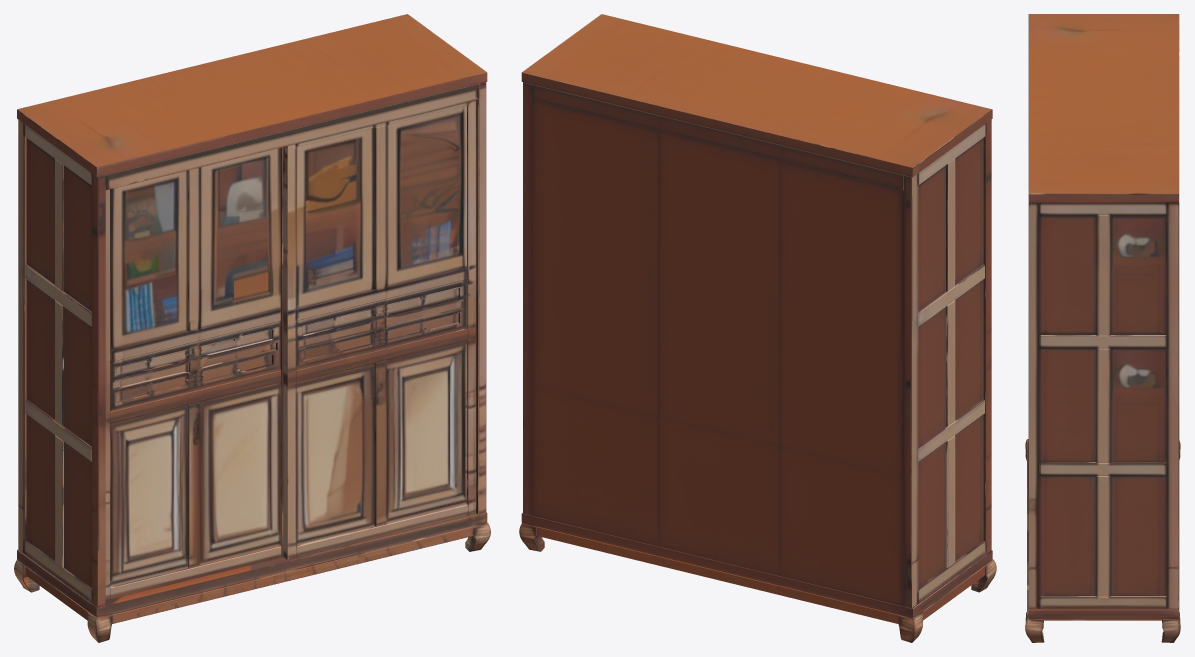
The model's file is edited_mesh.glb.
3 renders of one model, left to right at view 1: azimuth 30°, elevation 25°; view 2: azimuth 150°, elevation 25°; view 3: azimuth 270°, elevation 25°, orthographic. The views are drawn at different scales.
Parts seen in each view (by area): view 1: normalized_model.obj; view 2: normalized_model.obj; view 3: normalized_model.obj.
Part boxes in pixels (x1,y1,x2,y2): normalized_model.obj: [14, 14, 490, 642]; normalized_model.obj: [519, 14, 996, 642]; normalized_model.obj: [1025, 14, 1180, 642].
Bounding box in the file's own units: 1.21 × 1.4 × 0.4358.
Materials: 1 (1 with a texture image).
